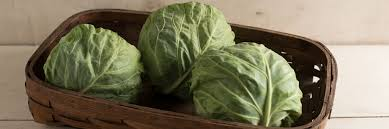cabbage: (194, 41, 306, 126), (135, 1, 231, 100), (46, 21, 143, 104)
